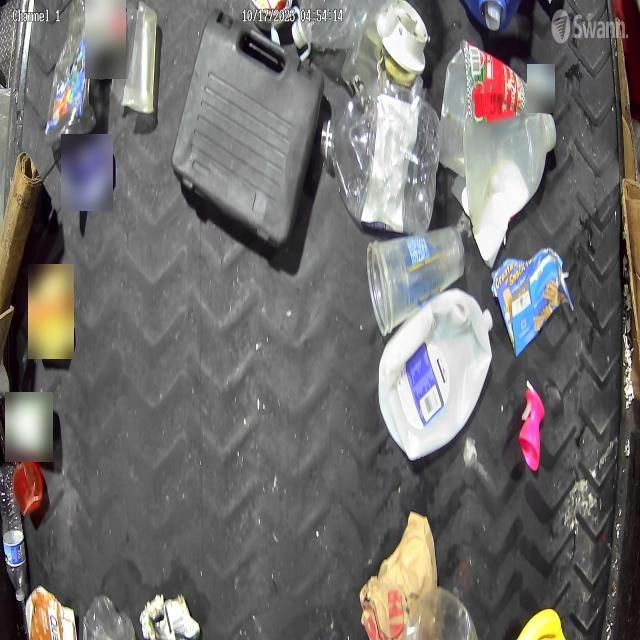milk_jug: (379, 288, 494, 462)
non_white_jug: (455, 0, 533, 35)
plastic_bottle: (322, 79, 440, 233), (1, 472, 30, 606)
